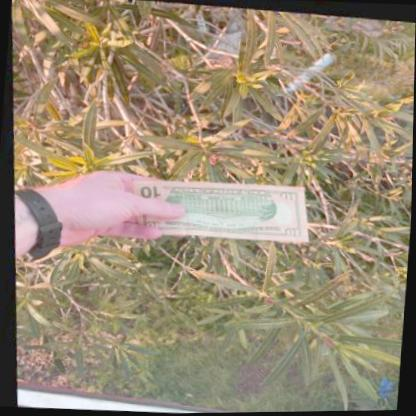ten-back: (129, 180, 306, 240)
